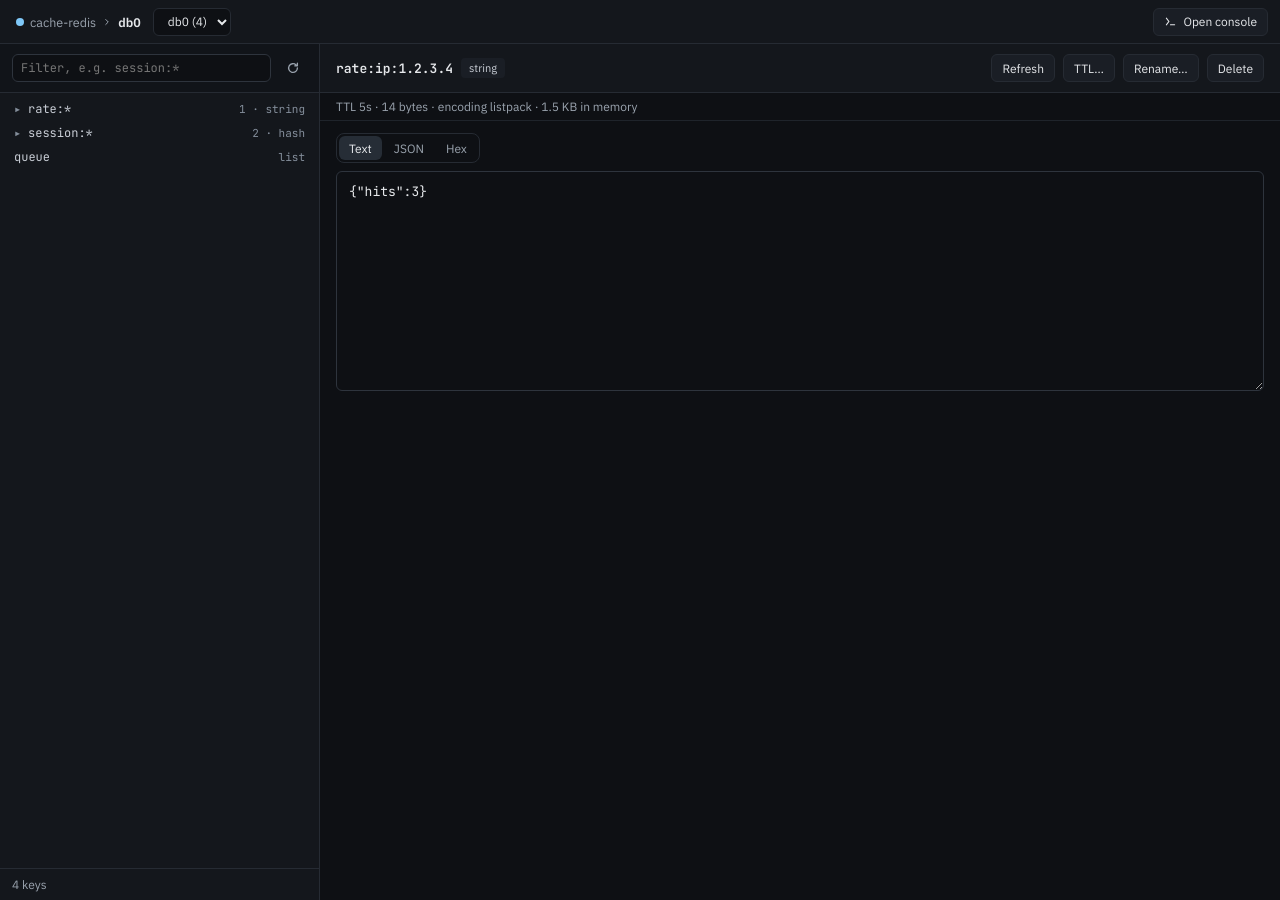
Test case: viewing keys › shows a string with TTL, size and encoding, and pretty-prints JSON
Check: the text box named "Value" holds "{\"hits\":3}", box [336, 171, 1264, 391]
Check: the text "TTL 5s · 14 bytes · encoding listpack · 1.5 KB in memory" is shown, box [320, 93, 1279, 121]
Click the tab "JSON" at (409, 148), box [384, 136, 434, 160]
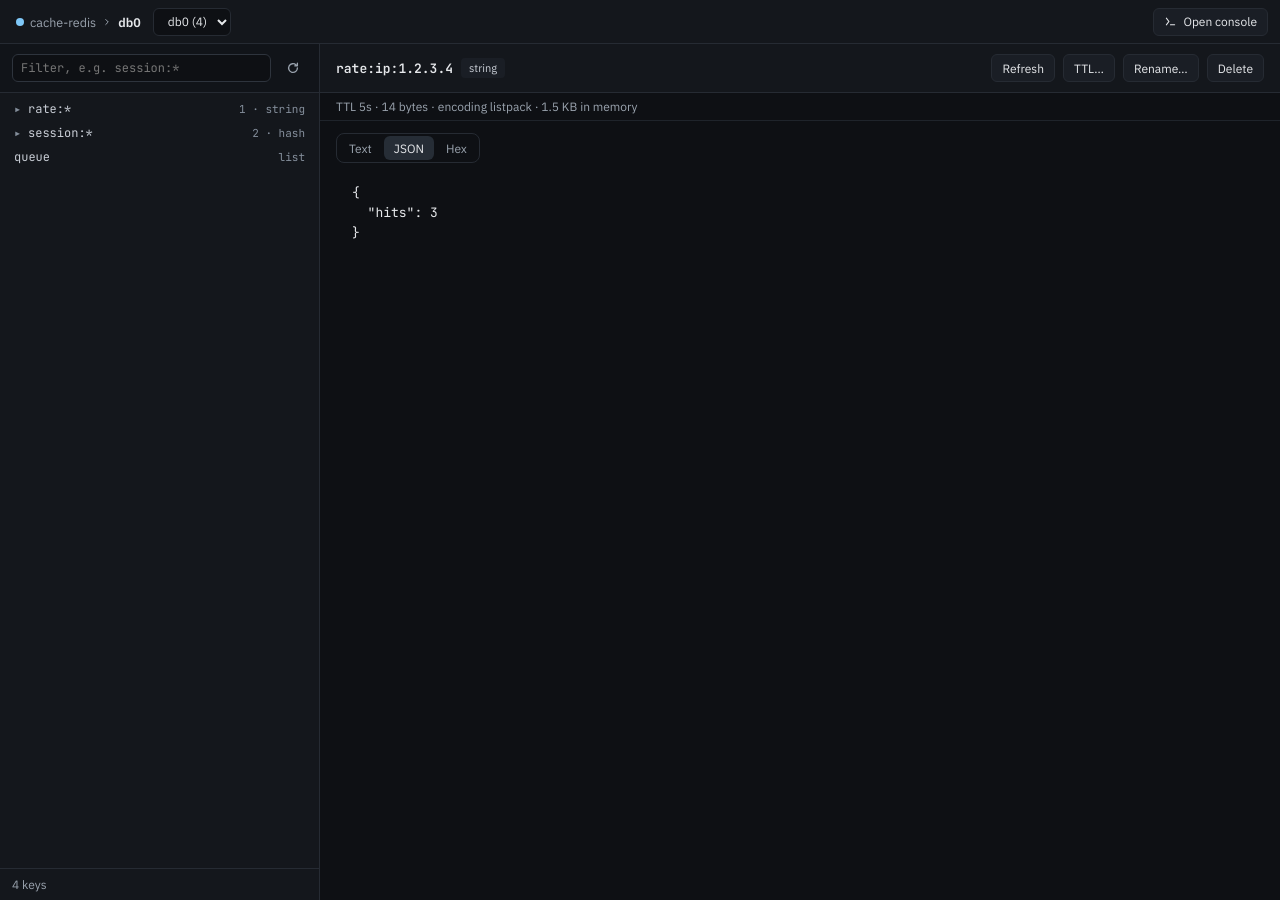
Check: the text named "Value as JSON" shows "\"hits\": 3", box [352, 184, 438, 241]
Click the tab "Hex" at (456, 148), box [436, 136, 477, 160]
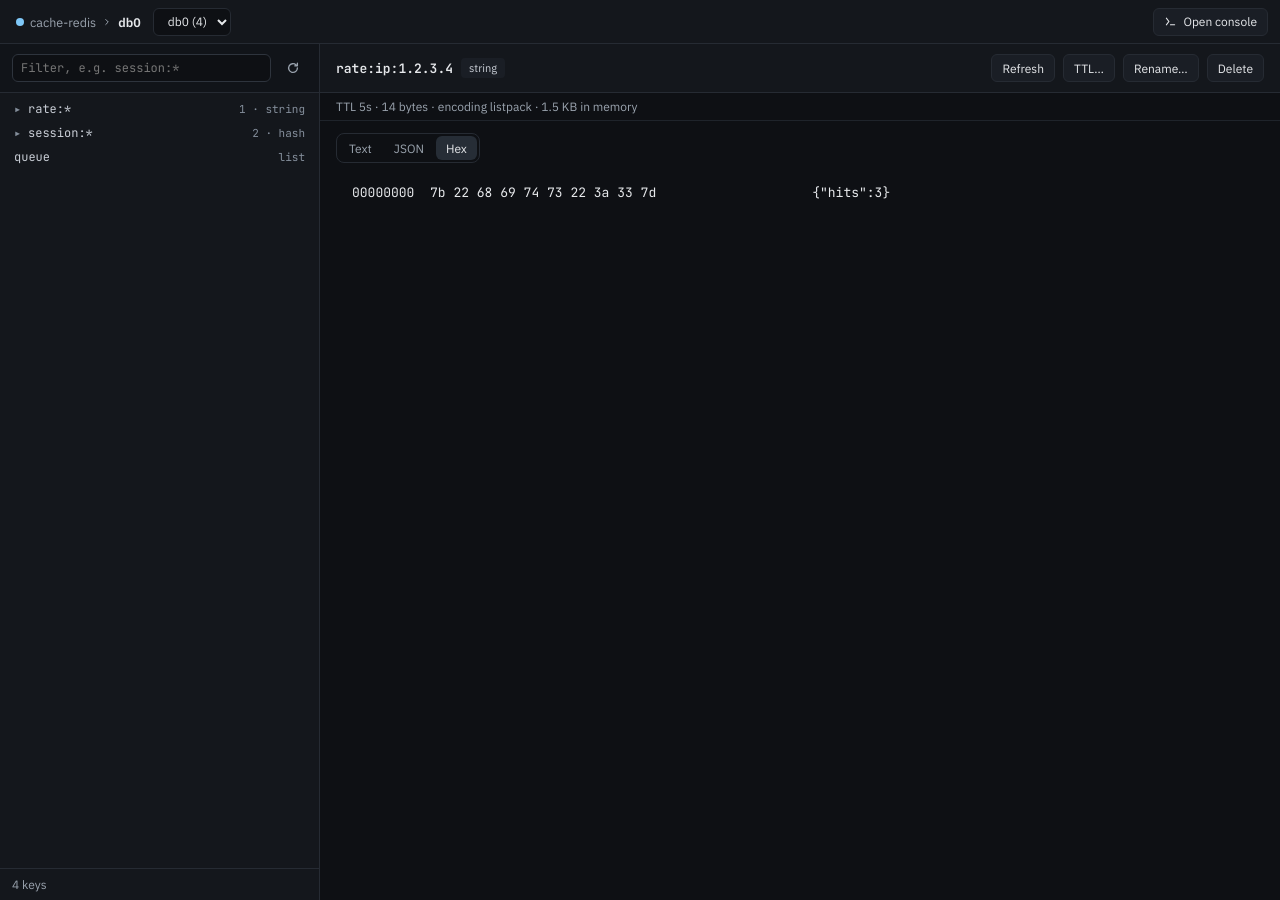
Check: the text named "Value as hex" shows "7b 22 68", box [352, 184, 890, 201]
